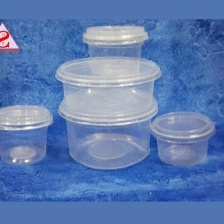plastic_box: (53, 90, 161, 174), (51, 52, 167, 124), (144, 106, 220, 171), (78, 20, 154, 80), (0, 100, 57, 168)
